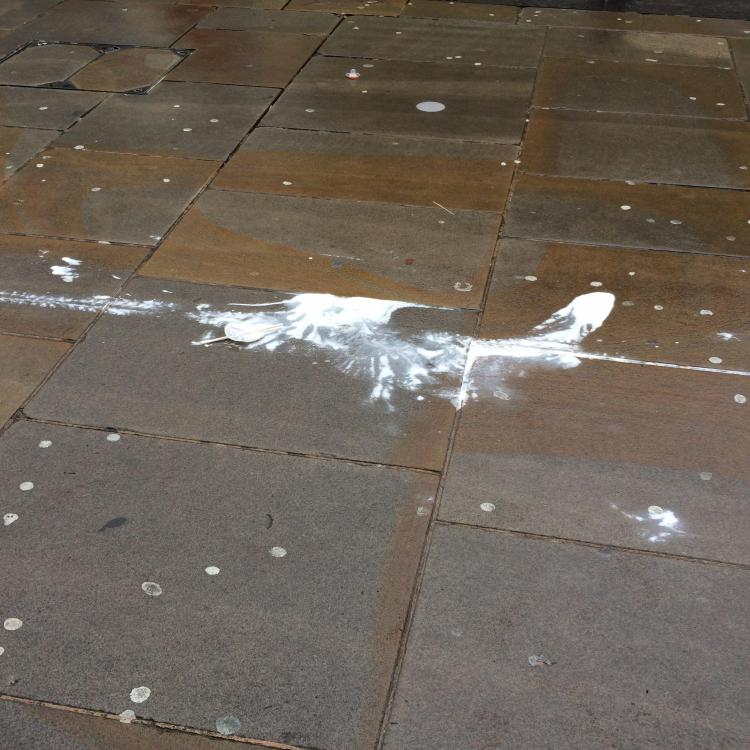Other plastic wrapper: (346, 69, 360, 79)
Plastic lid: (224, 322, 263, 342)
Plastic straw: (201, 323, 283, 345)
